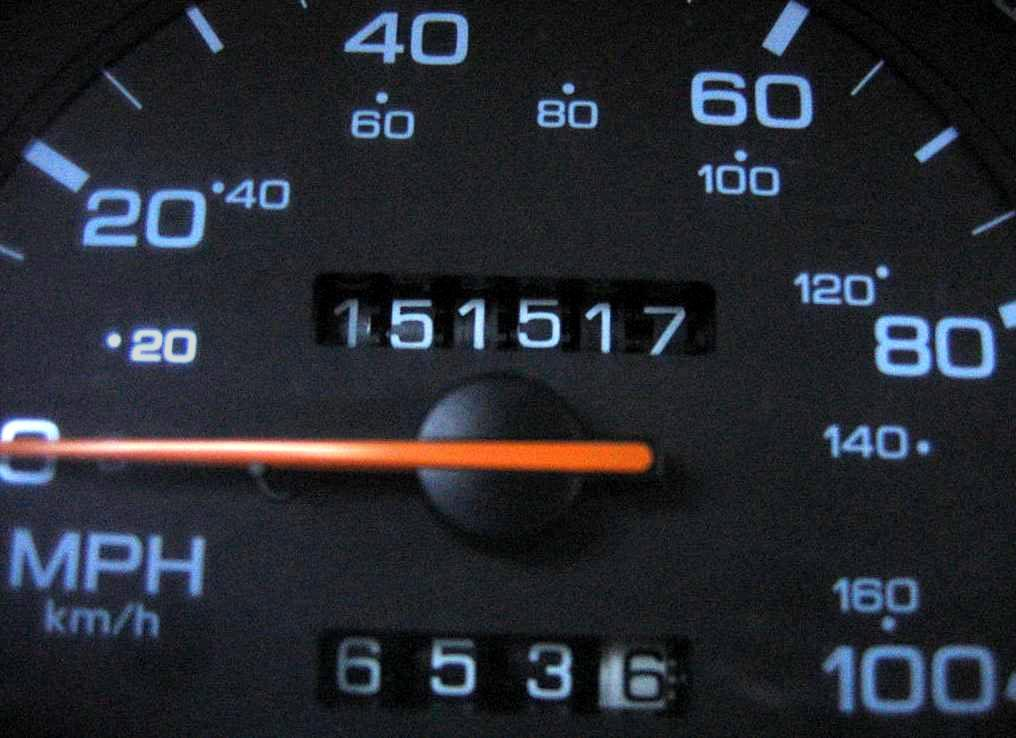1: (330, 296, 367, 349), (458, 295, 489, 351), (583, 300, 615, 354)
5: (514, 295, 564, 350), (387, 297, 436, 349)
7: (641, 304, 687, 357)
odometer: (310, 266, 720, 370)
